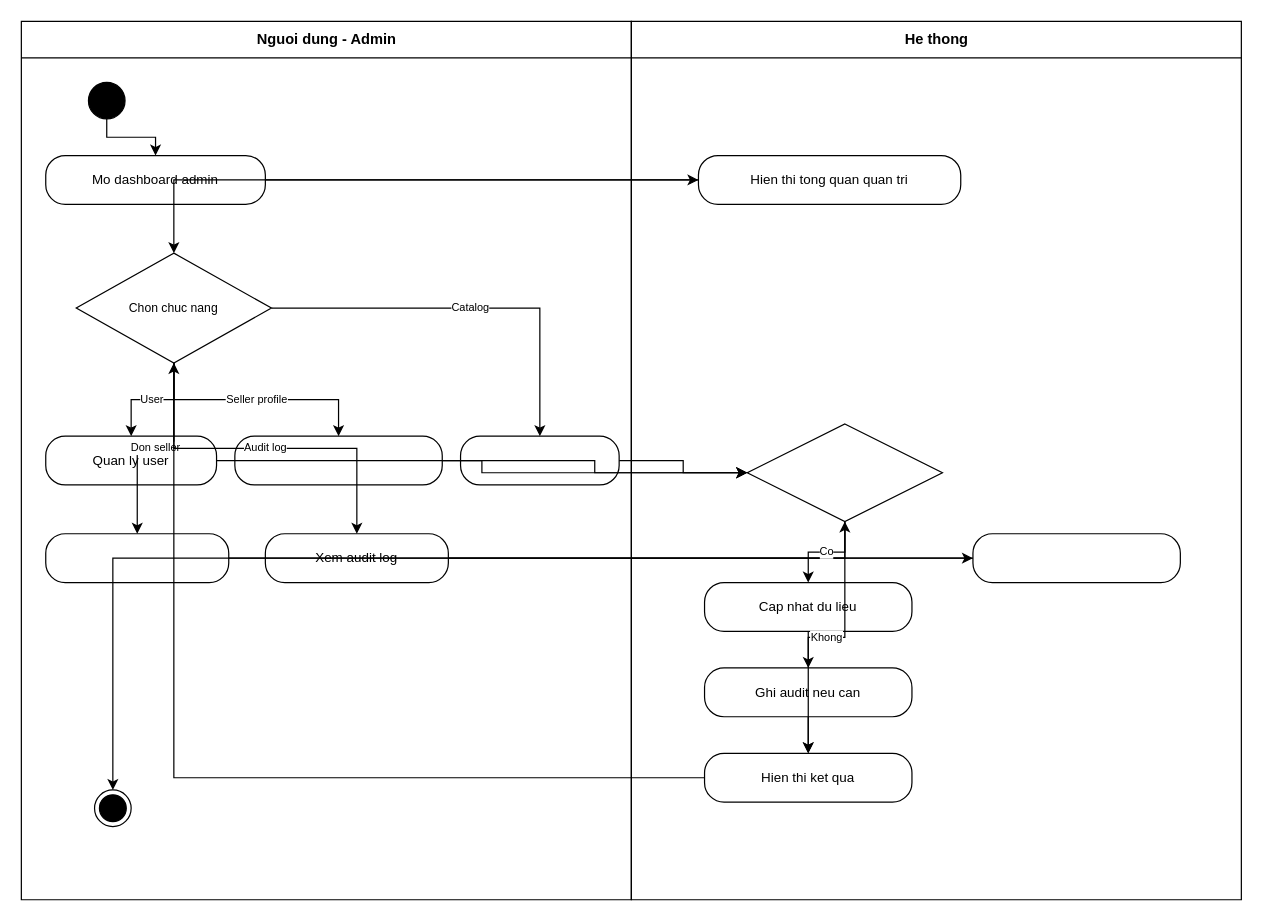
The diagram is 1263 pixels wide and 921 high, and some of its shapes have lost their labels. Here are the shapes that lost their labels. From the top down, the centre of each, then its label:
the point at 338,460: Quan ly seller profile
the point at 539,460: Quan ly catalog
the point at 844,472: Thao tac hop le?
the point at 137,558: Duyet don seller
the point at 1076,558: Hien thi audit log
